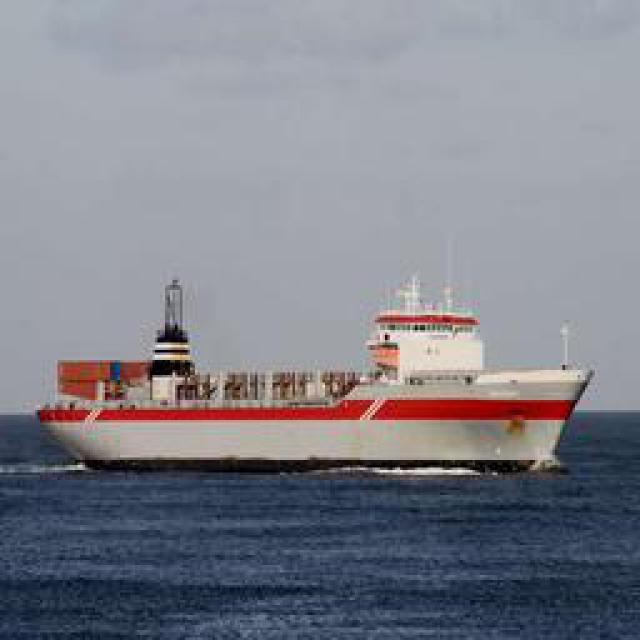Ship: (24, 260, 589, 473)
